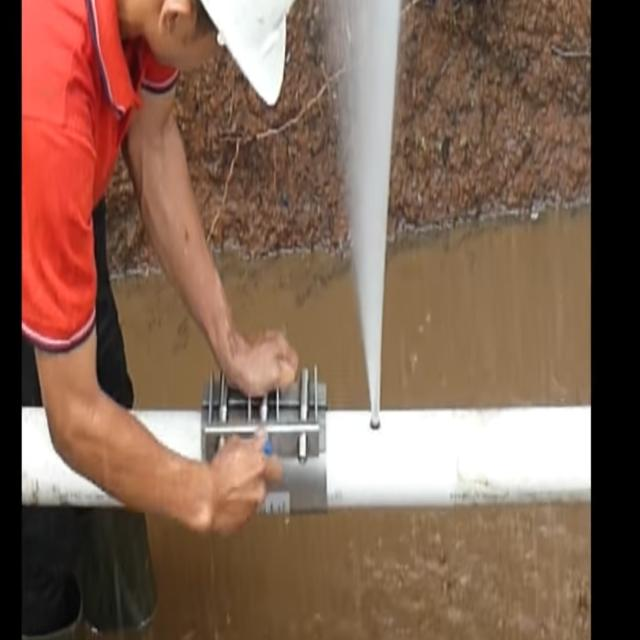leak: (328, 0, 400, 429)
